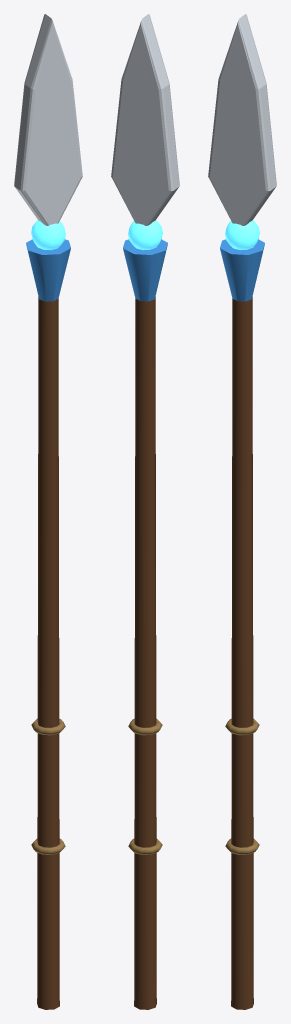
The model's file is spear_f0_94c9fb92.glb.
3 views of the same model, side by side, from view 1: azimuth 30°, elevation 25°; view 2: azimuth 150°, elevation 25°; view 3: azimuth 330°, elevation 25° (orthographic).
Visible parts, largest first — view 1: m0_ow80_, m1_ow80_, m3_ow80_, m2_gm160_, m4_ow80_; view 2: m0_ow80_, m1_ow80_, m3_ow80_, m2_gm160_, m4_ow80_; view 3: m0_ow80_, m1_ow80_, m3_ow80_, m2_gm160_, m4_ow80_.
Boxes of the visible parts, x1=… form: m0_ow80_: x1=37, y1=296, x2=59, y2=1009; m1_ow80_: x1=14, y1=14, x2=82, y2=225; m3_ow80_: x1=26, y1=239, x2=70, y2=301; m2_gm160_: x1=31, y1=220, x2=65, y2=250; m4_ow80_: x1=31, y1=718, x2=65, y2=854; m0_ow80_: x1=134, y1=296, x2=156, y2=1009; m1_ow80_: x1=111, y1=14, x2=179, y2=225; m3_ow80_: x1=123, y1=239, x2=167, y2=301; m2_gm160_: x1=128, y1=220, x2=162, y2=250; m4_ow80_: x1=128, y1=718, x2=162, y2=854; m0_ow80_: x1=231, y1=296, x2=253, y2=1009; m1_ow80_: x1=208, y1=14, x2=276, y2=225; m3_ow80_: x1=220, y1=239, x2=264, y2=301; m2_gm160_: x1=225, y1=220, x2=259, y2=250; m4_ow80_: x1=225, y1=718, x2=259, y2=854.
Bounding box in the file's own units: 0.2447 × 3.72 × 0.16.
